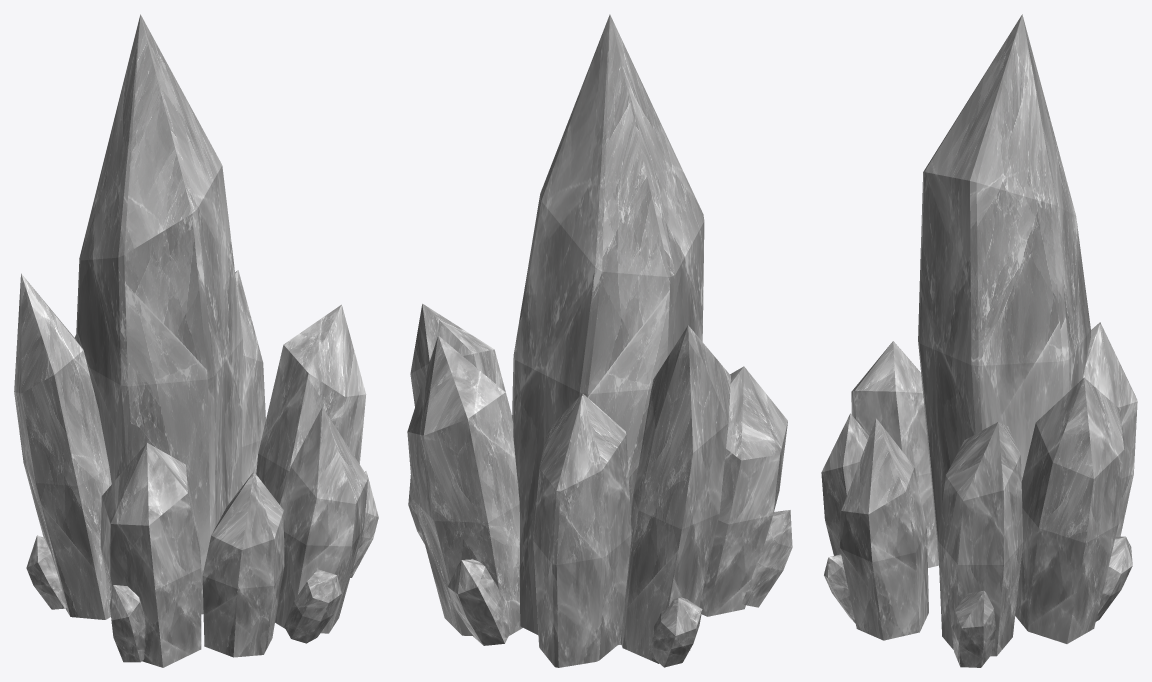
Rendered from Ore_Y7.fbx.
3 renders of one model, left to right at view 1: azimuth 30°, elevation 25°; view 2: azimuth 150°, elevation 25°; view 3: azimuth 270°, elevation 25°, orthographic. The views are drawn at different scales.
Visible parts, largest first — view 1: Ore_Y7_LOD0; view 2: Ore_Y7_LOD0; view 3: Ore_Y7_LOD0.
Part boxes in pixels (left/top/right/bottom): Ore_Y7_LOD0: left=14, top=14, right=378, bottom=667; Ore_Y7_LOD0: left=407, top=14, right=792, bottom=667; Ore_Y7_LOD0: left=821, top=14, right=1137, bottom=667.
Size of what is drawn, in the model's own units: 1.08 by 1.85 by 0.9331.
1 material, 1 textured.
